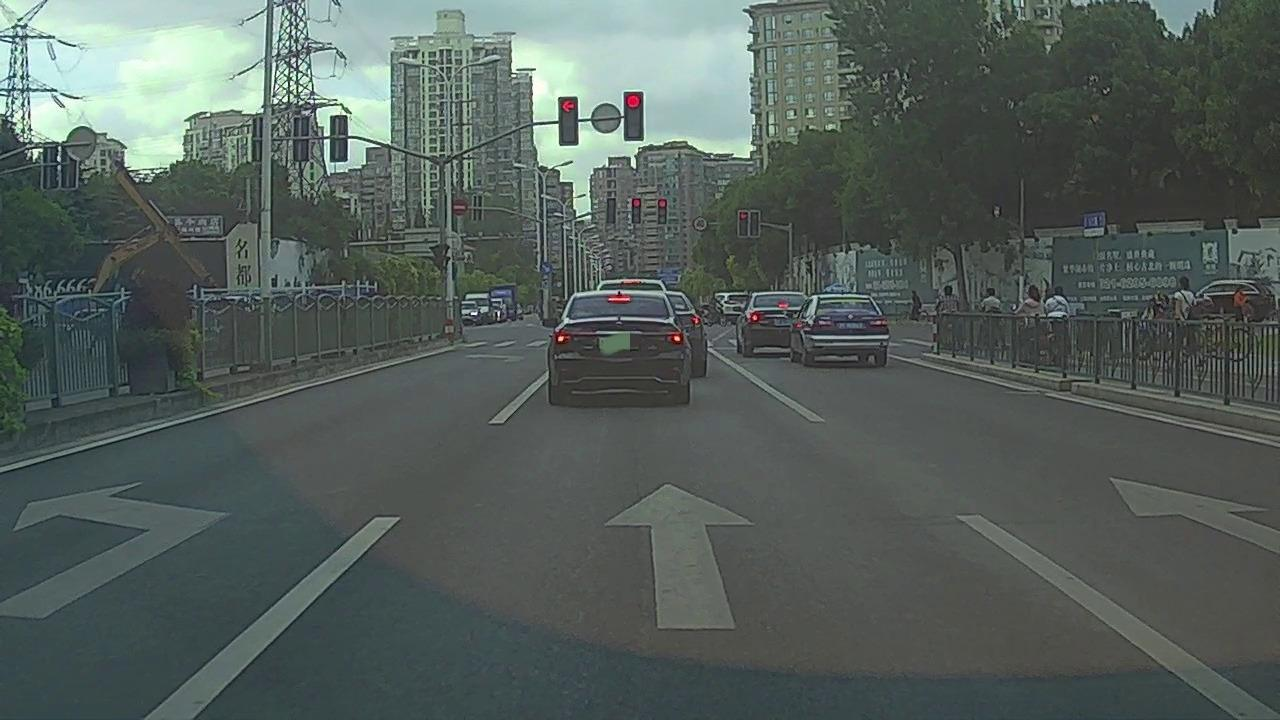traffic_light: (623, 91, 643, 141), (559, 98, 579, 145), (737, 210, 749, 239), (606, 196, 616, 224), (750, 210, 759, 238), (632, 198, 641, 225), (659, 197, 667, 225)
